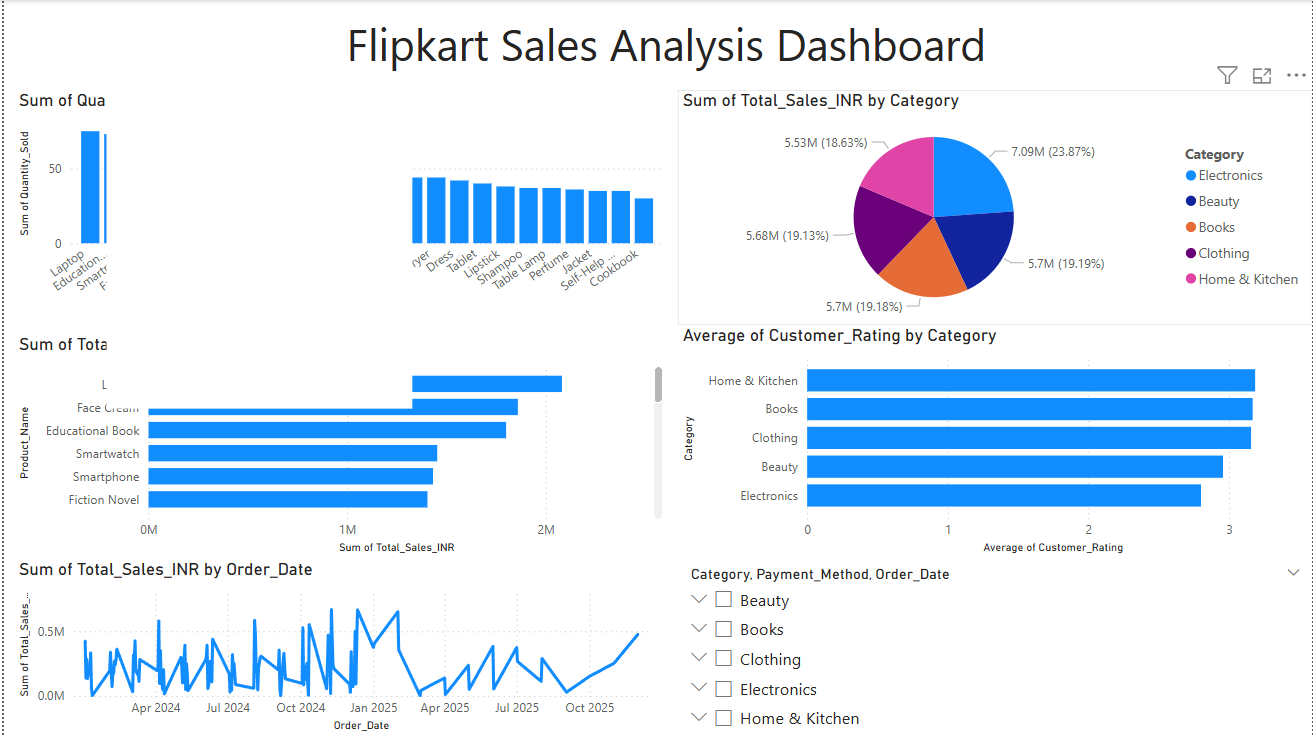

Layout of this report page (visuals, bound fields, positions):
{"tool":"powerbi","page":{"name":" Flipkart Sales Dashboard","canvas":[1280,720],"ordinal":0},"visuals":[{"type":"columnChart","fields":{"Category":["sqlDB.Product_Name"],"Y":["Sum(sqlDB.Quantity_Sold)"]},"box":[9.8,88,639.5,229.9],"z":0},{"type":"barChart","fields":{"Category":["sqlDB.Product_Name"],"Y":["Sum(sqlDB.Total_Sales_INR)"]},"box":[9.8,326.5,639.5,220.1],"z":1000},{"type":"lineChart","fields":{"Y":["Sum(sqlDB.Total_Sales_INR)"],"Category":["sqlDB.Order_Date"]},"box":[9.6,546.1,639.5,174.3],"z":2000},{"type":"pieChart","fields":{"Category":["sqlDB.Category"],"Y":["Sum(sqlDB.Total_Sales_INR)"]},"box":[659.1,88,621.2,229.9],"z":3000},{"type":"barChart","fields":{"Category":["sqlDB.Category"],"Y":["Avg(sqlDB.Customer_Rating)"]},"box":[659.1,317.9,621.2,228.7],"z":4000},{"type":"slicer","fields":{"Values":["sqlDB.Category","sqlDB.Payment_Method","sqlDB.Order_Date"]},"box":[658.7,547.5,621.6,172.9],"z":5000},{"type":"textbox","box":[100.3,8.6,299.6,391.3],"z":6000},{"type":"textbox","box":[330.2,8.6,656.7,79.5],"z":6001}]}

Visuals, with their boxes in screenshot pixels (x1, y1, x2, y2), scaled from the page's 1280x720 canvas onto the 1313x735 screenshot:
columnChart - sqlDB.Product_Name x Sum(sqlDB.Quantity_Sold): {"x1": 10, "y1": 90, "x2": 666, "y2": 325}
barChart - sqlDB.Product_Name x Sum(sqlDB.Total_Sales_INR): {"x1": 10, "y1": 333, "x2": 666, "y2": 558}
lineChart - Sum(sqlDB.Total_Sales_INR) x sqlDB.Order_Date: {"x1": 10, "y1": 557, "x2": 666, "y2": 734}
pieChart - sqlDB.Category x Sum(sqlDB.Total_Sales_INR): {"x1": 676, "y1": 90, "x2": 1312, "y2": 325}
barChart - sqlDB.Category x Avg(sqlDB.Customer_Rating): {"x1": 676, "y1": 325, "x2": 1312, "y2": 558}
slicer - sqlDB.Category x sqlDB.Payment_Method: {"x1": 676, "y1": 559, "x2": 1312, "y2": 734}
textbox: {"x1": 103, "y1": 9, "x2": 410, "y2": 408}
textbox: {"x1": 339, "y1": 9, "x2": 1012, "y2": 90}
